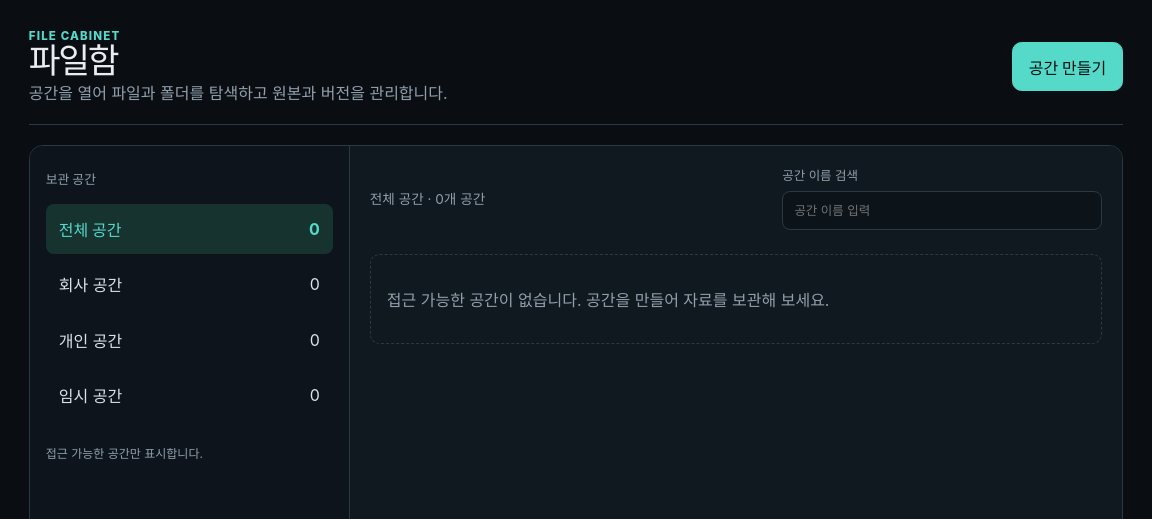
creates only on explicit submit and appends the actual response while blocking pending duplicates
Click the button "공간 만들기" at coordinates (1068, 66), box [1012, 42, 1123, 91]
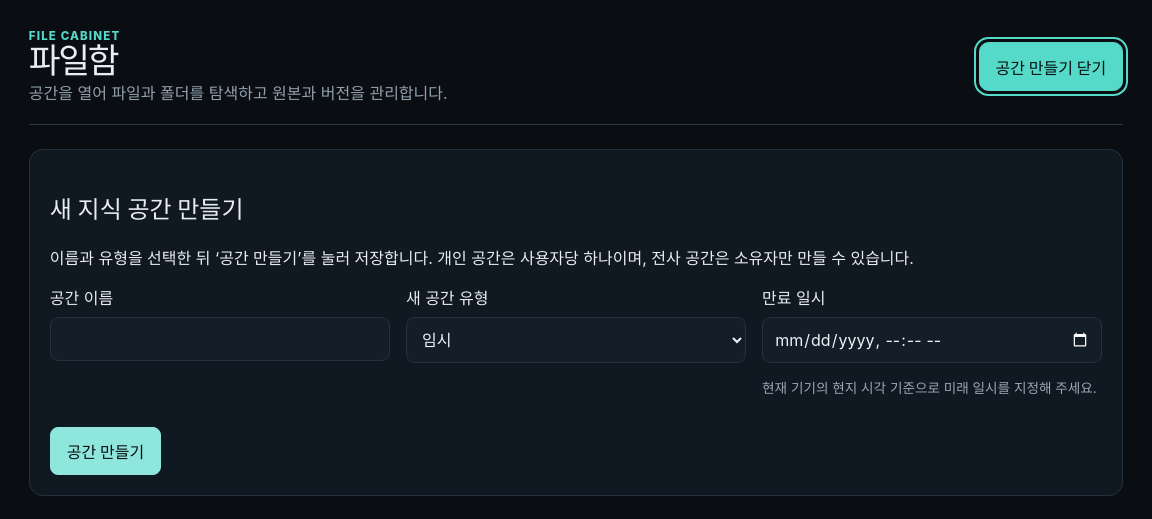
Type "  Draft name  " into the field labelled "공간 이름" at coordinates (220, 339), box [50, 317, 390, 362]
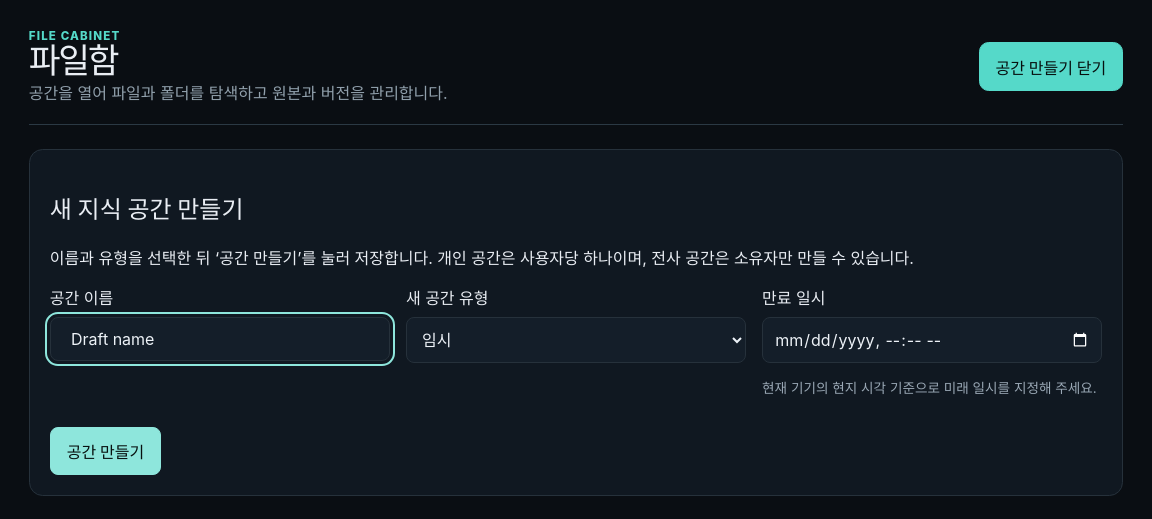
Select "개인" in the dropdown labelled "새 공간 유형" at coordinates (576, 340), box [406, 317, 746, 364]
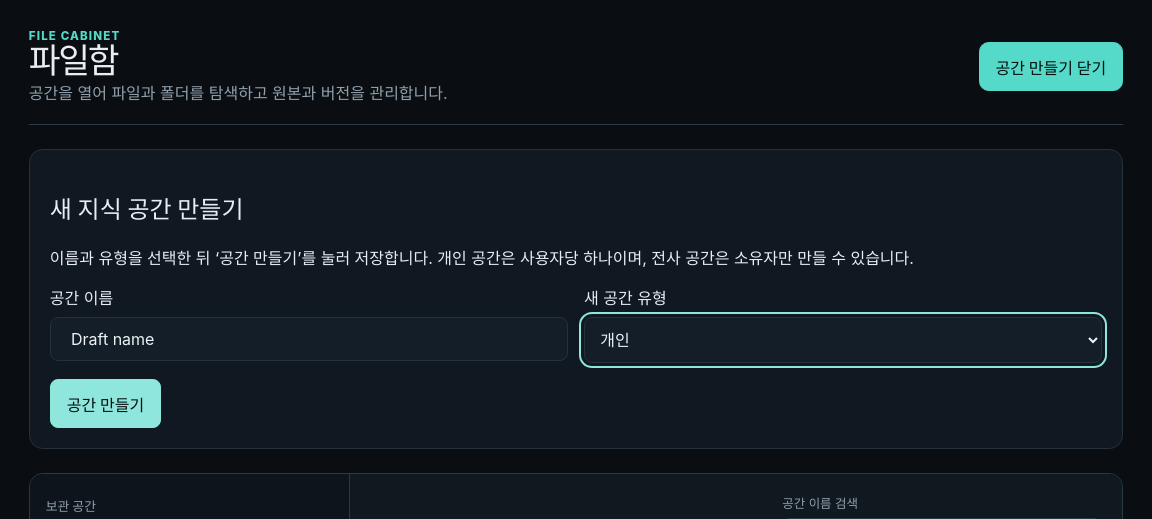
Click the button "공간 만들기" at coordinates (106, 404), box [50, 380, 161, 428]
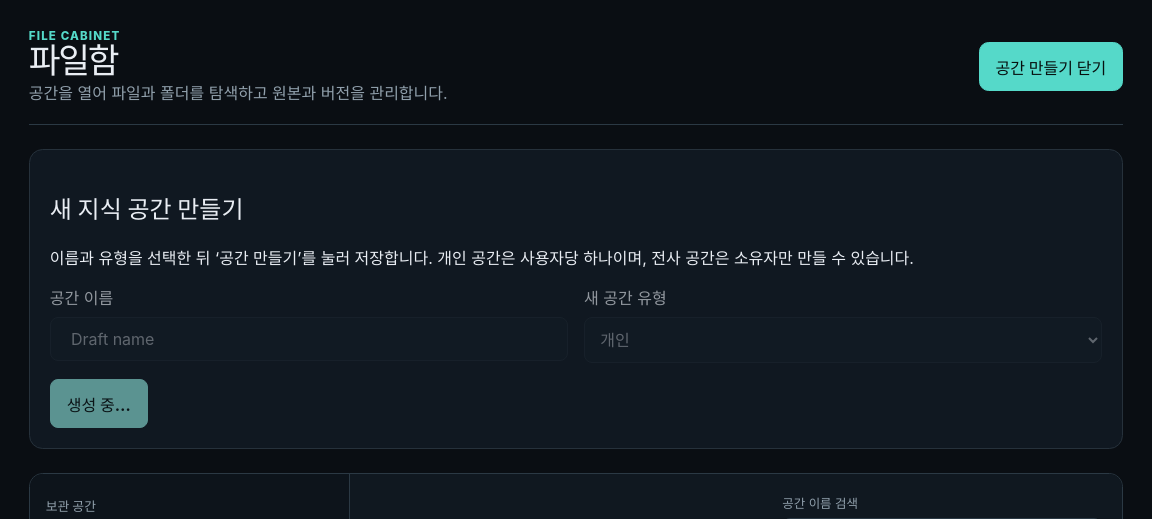
Expected: the field labelled "공간 이름" is disabled, [50, 317, 568, 362]
Expected: the button "생성 중…" is disabled, [50, 380, 148, 428]
Submit the form "새 지식 공간 만들기", box [29, 149, 1123, 449]
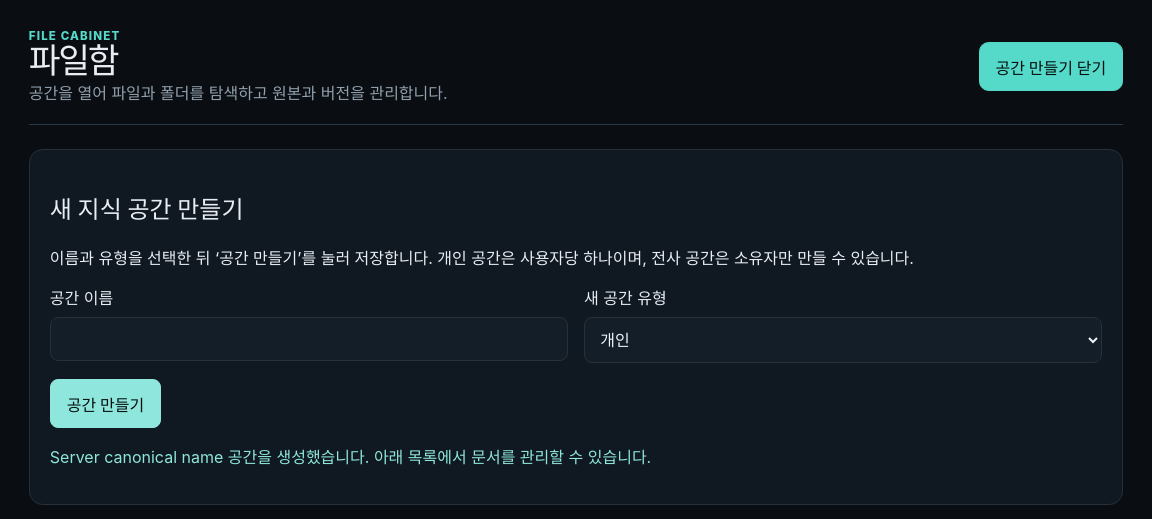
Expected: the message shows "생성했습니다", [50, 447, 651, 467]
Type "Next draft" into the field labelled "공간 이름" at coordinates (309, 339), box [50, 317, 568, 362]
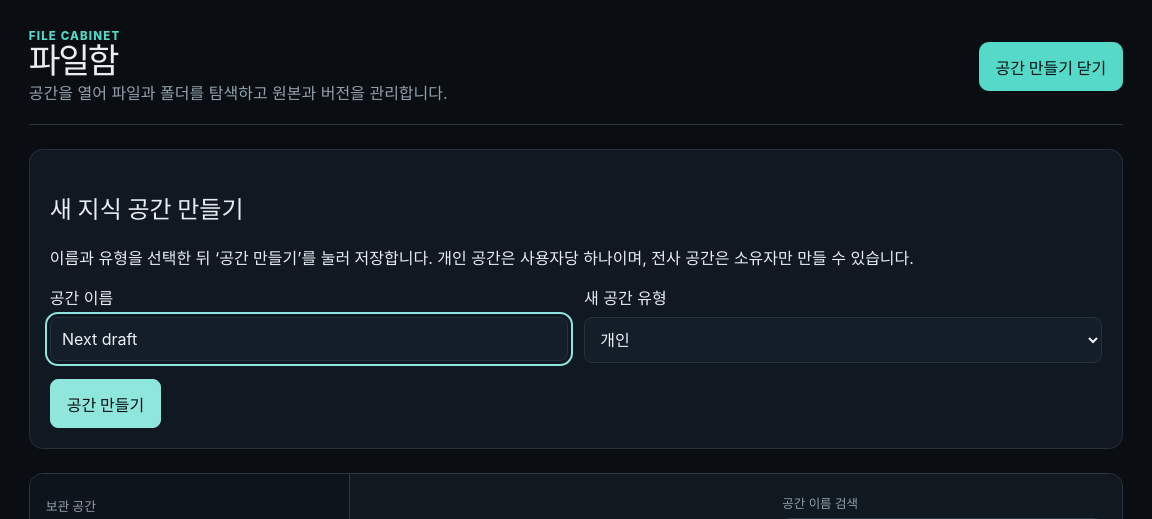
Expected: the message "Server canonical name 공간을 생성했습니다. 아래 목록에서 문서를 관리할 수 있습니다." is gone
